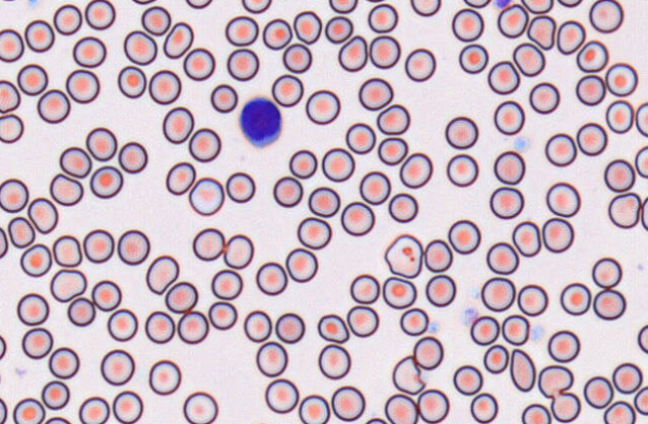LYM: (239, 95, 284, 149)
RBC: (188, 176, 224, 215), (330, 385, 365, 421), (545, 181, 580, 217), (49, 268, 86, 302), (480, 276, 515, 311), (305, 89, 340, 124), (537, 364, 573, 398), (100, 349, 134, 385), (607, 192, 641, 228), (123, 30, 157, 65), (264, 378, 298, 413), (340, 201, 374, 236), (36, 88, 70, 123), (148, 359, 181, 395), (117, 229, 150, 265), (399, 152, 432, 188), (541, 217, 574, 253), (162, 106, 194, 143), (65, 69, 99, 103), (148, 69, 181, 104), (416, 388, 449, 423), (447, 219, 480, 254), (285, 247, 318, 282), (358, 77, 393, 110), (296, 216, 331, 249), (321, 147, 354, 182), (188, 127, 221, 162), (255, 341, 287, 377), (182, 391, 218, 423), (318, 343, 350, 379), (162, 21, 193, 58), (27, 197, 58, 234), (509, 348, 535, 392), (49, 173, 83, 206), (589, 0, 623, 33), (489, 186, 523, 219), (512, 42, 545, 76), (89, 165, 123, 198), (382, 276, 416, 309), (444, 116, 478, 149), (605, 62, 638, 96), (82, 228, 114, 263), (223, 233, 254, 269), (511, 220, 541, 257), (16, 292, 49, 325), (547, 329, 580, 362), (486, 241, 519, 274), (226, 48, 259, 81), (164, 281, 198, 313), (255, 261, 287, 295), (451, 7, 483, 41), (85, 127, 117, 161), (20, 243, 52, 277), (376, 103, 410, 135), (487, 60, 519, 94), (493, 150, 525, 184), (446, 153, 478, 187), (603, 158, 635, 192), (544, 132, 576, 166), (497, 3, 528, 38), (493, 100, 524, 135), (359, 170, 390, 205), (526, 14, 556, 50), (192, 227, 224, 260), (593, 288, 626, 320), (346, 305, 379, 337), (183, 47, 215, 80), (559, 282, 591, 315), (271, 74, 303, 107), (576, 39, 608, 72), (224, 15, 258, 46), (177, 310, 208, 344), (72, 36, 106, 67), (412, 336, 443, 370), (576, 122, 607, 156), (404, 47, 435, 81), (338, 35, 367, 71), (21, 327, 53, 359), (59, 146, 91, 178), (48, 346, 79, 379), (107, 308, 138, 341), (112, 390, 143, 423), (369, 35, 400, 68), (144, 310, 175, 343), (165, 161, 195, 195), (384, 393, 418, 423), (17, 63, 48, 95), (308, 186, 340, 217), (425, 274, 456, 306), (272, 175, 303, 207), (517, 284, 548, 316), (583, 375, 613, 408), (24, 19, 54, 52), (52, 234, 82, 267), (529, 81, 559, 114), (556, 20, 585, 54), (293, 10, 322, 44), (423, 238, 452, 272), (605, 99, 634, 133), (452, 364, 483, 395), (274, 312, 305, 343), (575, 74, 606, 105), (591, 257, 622, 288), (91, 279, 121, 311), (317, 313, 349, 343), (345, 122, 375, 154), (612, 362, 642, 394), (210, 269, 242, 299), (225, 171, 255, 203), (243, 309, 272, 342), (117, 65, 146, 98), (0, 178, 28, 212), (550, 391, 580, 422), (84, 0, 115, 30), (367, 3, 398, 33), (349, 273, 379, 304), (262, 18, 292, 49), (282, 42, 312, 73), (298, 394, 330, 423), (53, 3, 82, 35), (118, 141, 147, 173), (141, 5, 171, 35), (469, 315, 499, 345), (458, 43, 488, 73), (388, 192, 418, 222), (469, 392, 498, 423), (7, 216, 35, 248), (377, 136, 407, 165), (501, 314, 529, 345), (78, 396, 110, 423), (12, 397, 45, 423), (288, 149, 317, 178), (208, 301, 237, 330), (41, 380, 69, 410), (67, 296, 95, 326), (0, 28, 24, 62), (324, 15, 353, 43), (399, 307, 428, 335), (210, 83, 237, 113), (603, 400, 636, 423), (483, 344, 509, 373), (0, 113, 24, 143), (0, 79, 20, 113), (521, 403, 551, 423), (410, 0, 440, 16), (634, 145, 647, 178), (633, 385, 647, 415), (635, 101, 647, 136), (521, 0, 553, 13), (241, 0, 271, 13), (328, 0, 357, 13), (637, 324, 647, 353), (0, 226, 8, 258), (185, 0, 212, 9), (641, 196, 648, 230), (463, 0, 490, 8), (43, 416, 72, 423), (0, 397, 7, 423), (557, 0, 582, 7), (493, 0, 512, 8), (0, 334, 6, 359), (364, 417, 387, 423), (131, 0, 156, 5), (364, 0, 386, 3)
Schistocyte: (384, 234, 424, 279), (393, 354, 426, 395), (146, 255, 179, 294)
